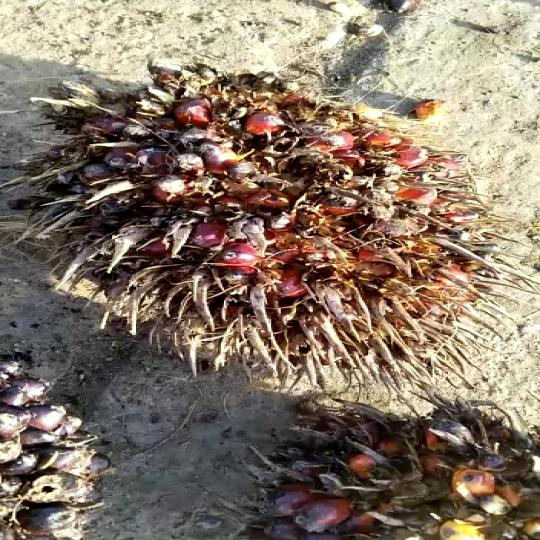terlalu masak: (4, 53, 540, 389)
